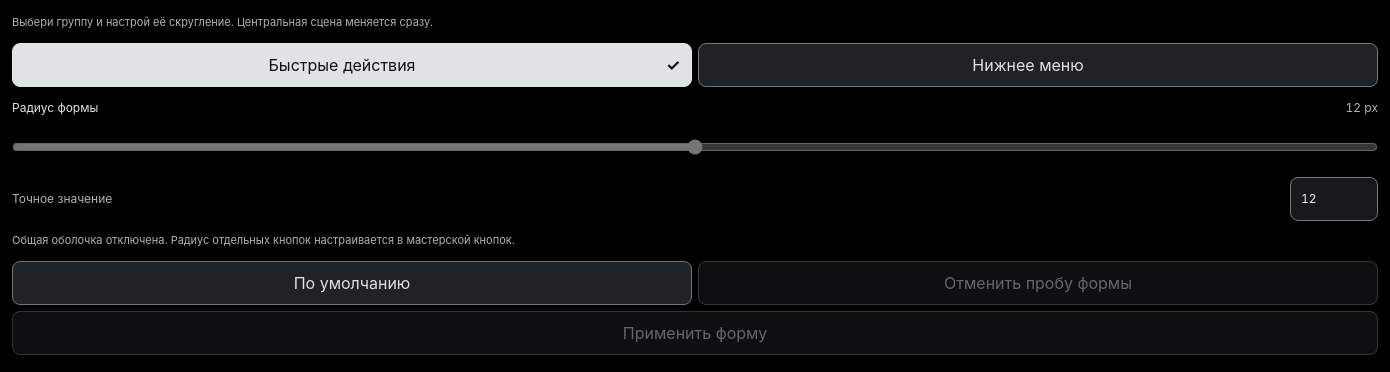
Test: MONO shape lab › explains that the common shell radius is inactive for separate buttons
Check: the slider labelled "Радиус формы" is disabled, box x1=12 y1=125 x2=1378 y2=169
What coordinates should you click on to do the following:
click the radio button labelled "Нижнее меню"
I would click on:
 (1038, 65)
Its box is x1=698 y1=43 x2=1378 y2=87.
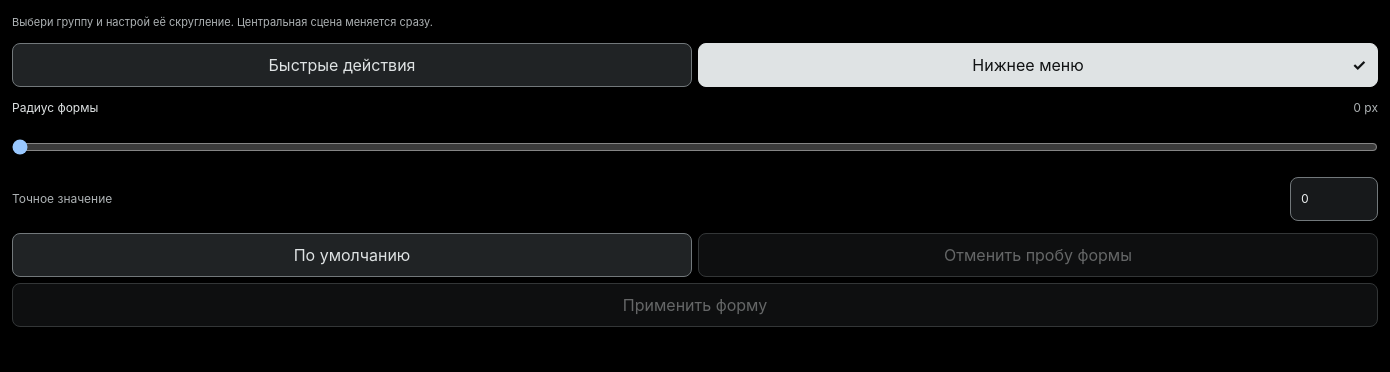
Check: the slider labelled "Радиус формы" is enabled, box x1=12 y1=125 x2=1378 y2=169
